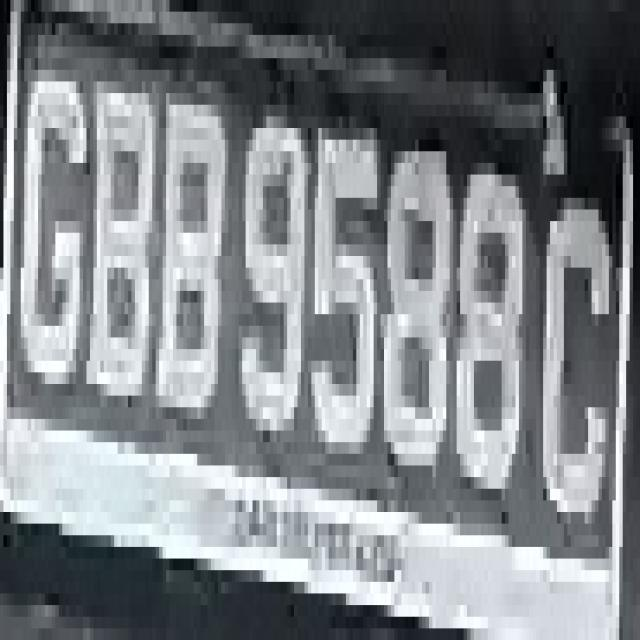5: (304, 116, 384, 442)
8: (446, 140, 526, 512), (391, 93, 453, 489)
9: (239, 35, 318, 465)
B: (152, 58, 232, 454), (83, 58, 156, 442)
C: (540, 151, 612, 547)
G: (18, 23, 86, 431)
